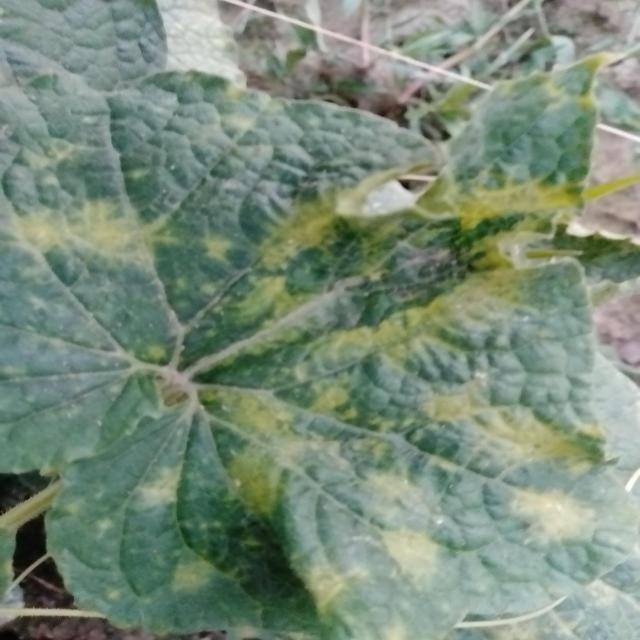cucumber_downy: (0, 45, 610, 636)
